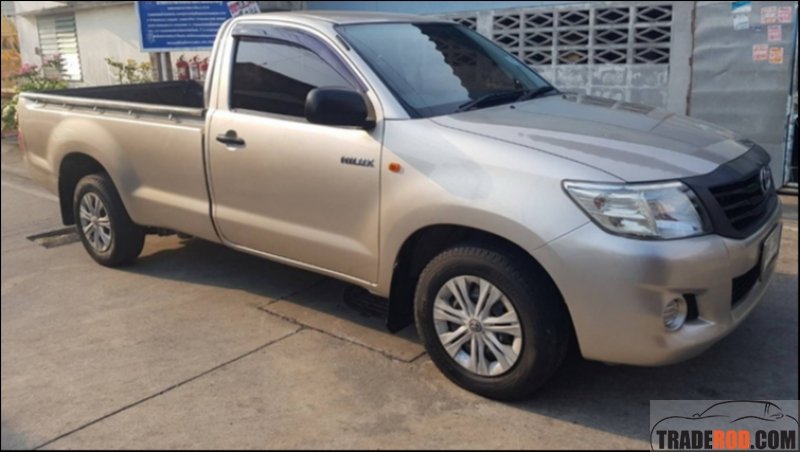pickup: (12, 10, 788, 401)
